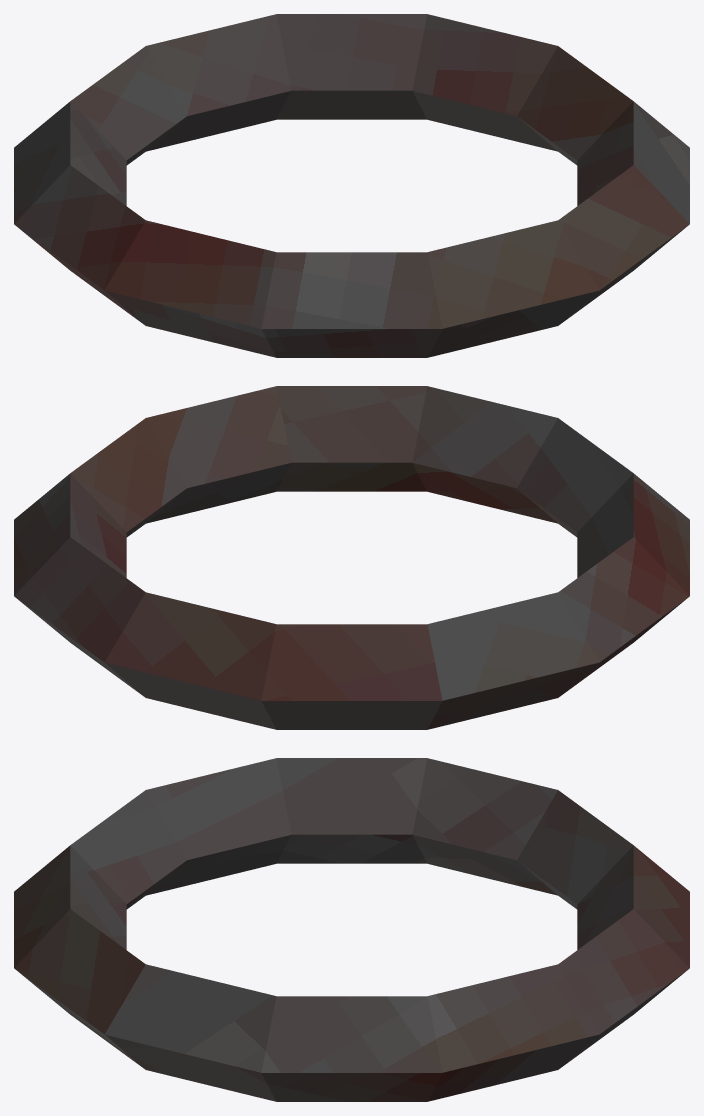
Rendered from PinionLoop.glb.
The picture shows the model from 3 angles, top to bottom: view 1: azimuth 30°, elevation 25°; view 2: azimuth 150°, elevation 25°; view 3: azimuth 270°, elevation 25°; orthographic projection.
Visible parts, largest first — view 1: Torus; view 2: Torus; view 3: Torus.
Part boxes in pixels (x1,y1,x2,y2): Torus: [14, 14, 689, 357]; Torus: [14, 386, 689, 729]; Torus: [14, 758, 689, 1101].
Bounding box in the file's own units: 0.6027 × 0.104 × 0.6027.
Materials: 1 (1 with a texture image).
